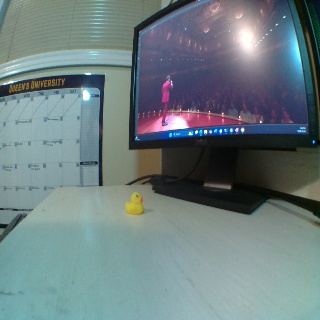duck_regular: (125, 193, 144, 215)
